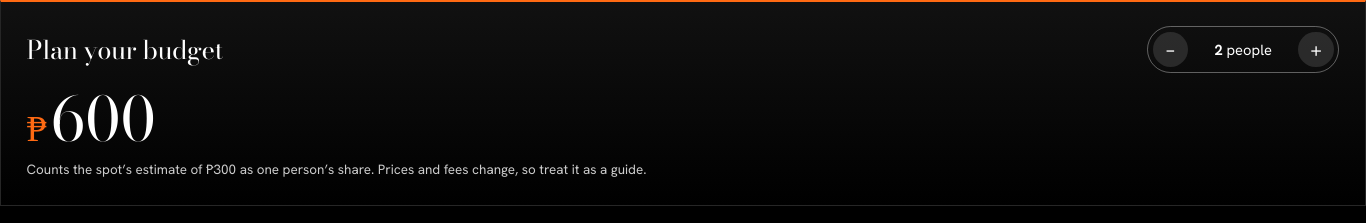
Test case: CostSplitter › multiplies the estimate by the group size, between 1 and the maximum
Click the button named "More people". click: x=1316, y=49
box: [1298,32,1334,67]
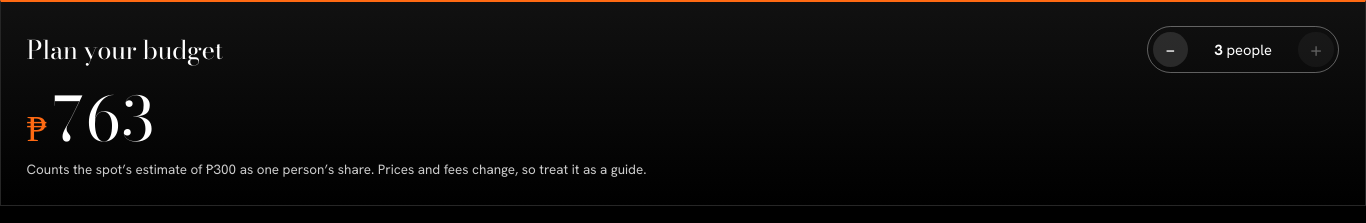
Expected: the button named "More people" is disabled, [1298,32,1334,67]
Click the button named "Fewer people". click: x=1170, y=49
box: [1153,32,1188,67]
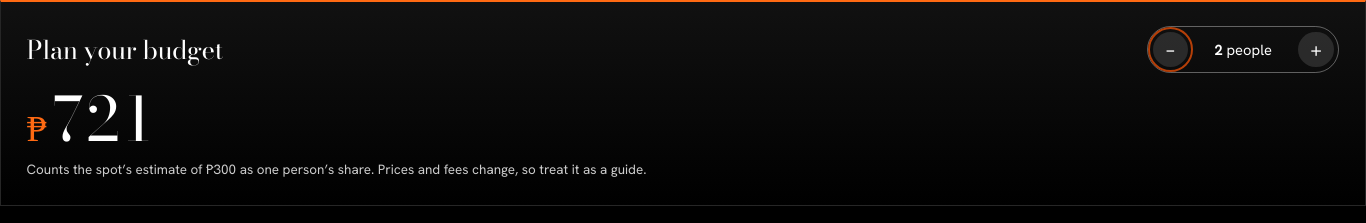
Click the button named "Fewer people". click: x=1170, y=49
box: [1153,32,1188,67]
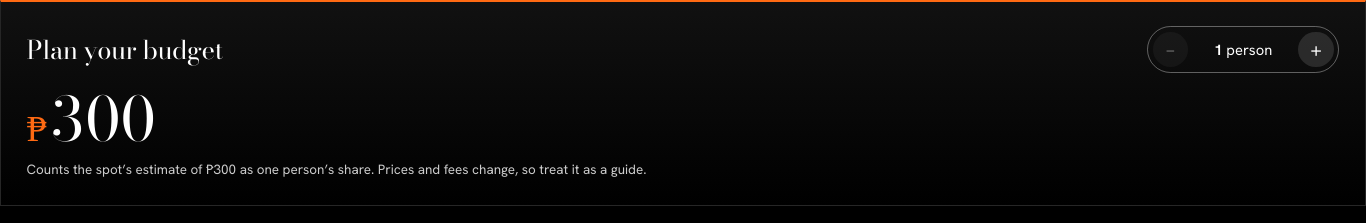
Expected: the button named "Fewer people" is disabled, [1153,32,1188,67]
